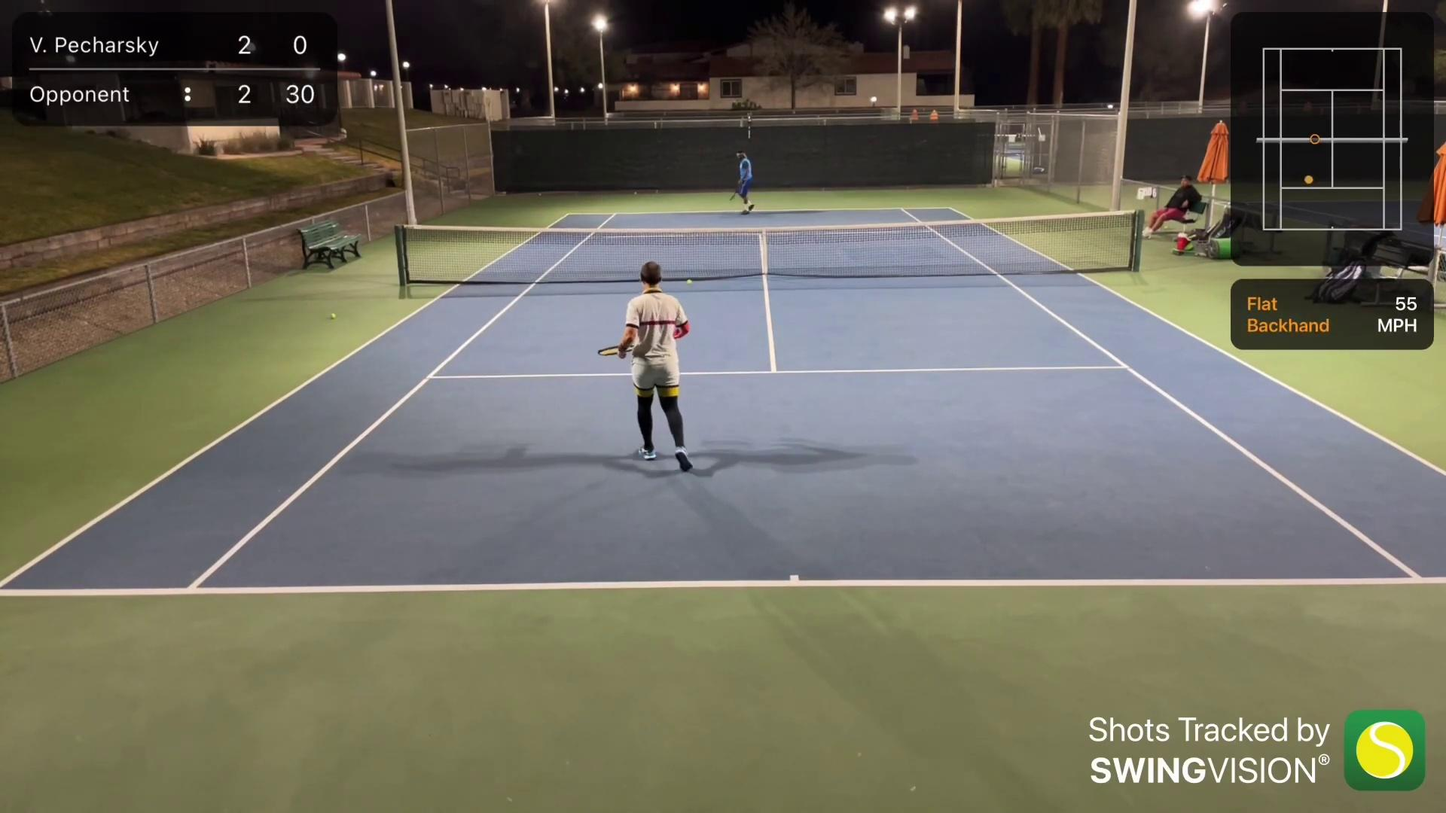ball: (684, 277, 695, 285), (329, 311, 338, 320)
